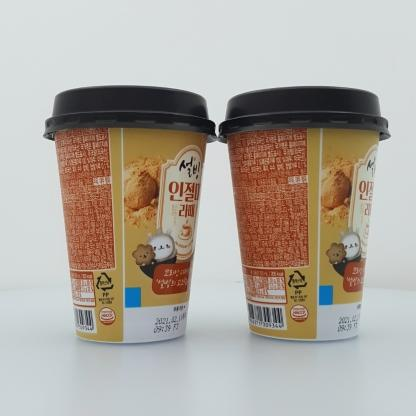--------------250ML: (43, 85, 217, 343), (217, 86, 391, 341)
